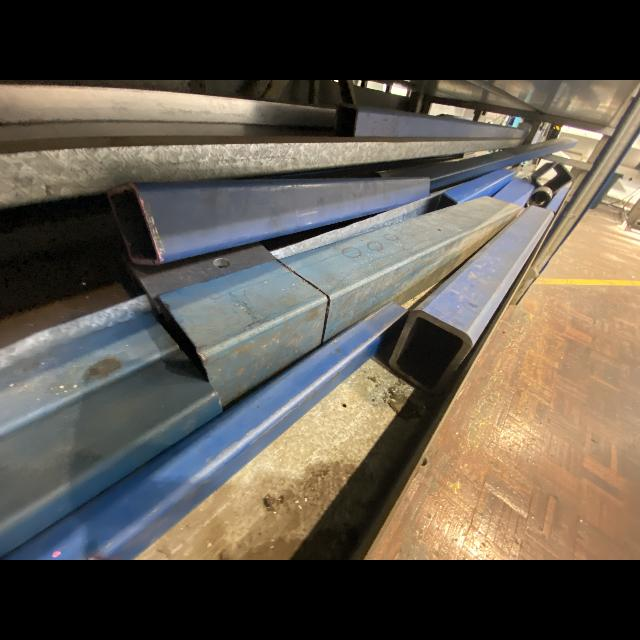Ferrous Metal: (0, 301, 409, 560), (0, 349, 223, 560), (278, 195, 521, 345), (387, 205, 554, 398), (104, 177, 429, 265), (160, 261, 328, 410), (1, 313, 180, 437), (119, 242, 278, 313), (380, 136, 577, 190), (333, 103, 527, 139), (434, 169, 515, 211), (492, 177, 536, 209), (547, 187, 570, 213)
